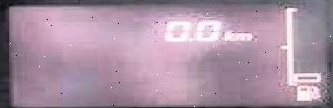-: (187, 37, 193, 41)
0: (160, 21, 189, 41), (191, 19, 218, 40)
X: (233, 32, 251, 41), (220, 29, 233, 39)
